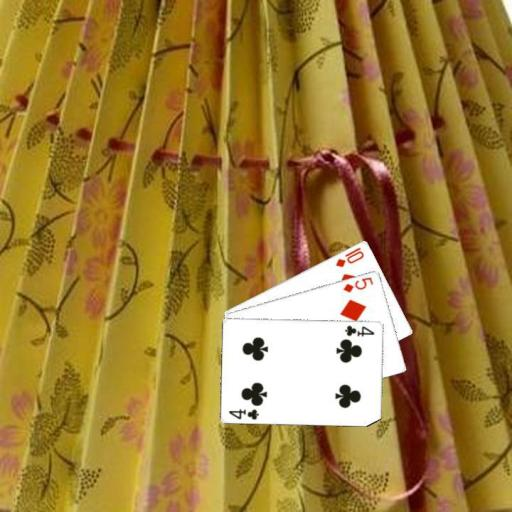10D: (333, 244, 365, 268)
4C: (226, 405, 260, 421), (342, 322, 376, 337)
5D: (340, 274, 375, 294)
